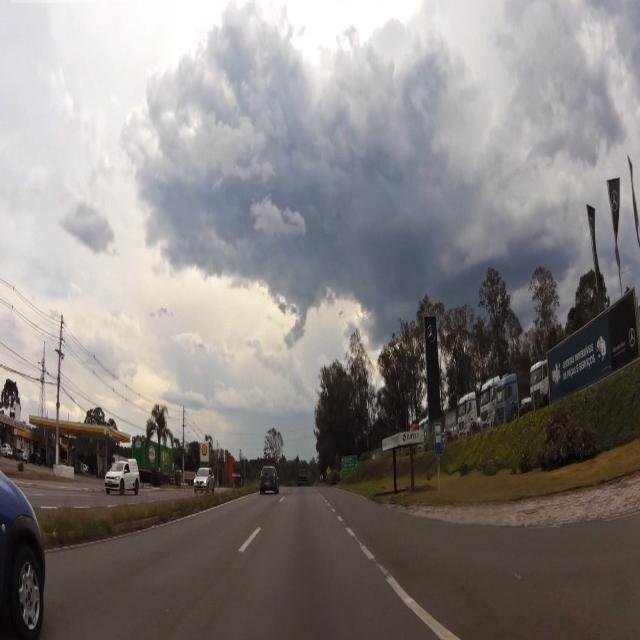S-14: (435, 422, 443, 454)
